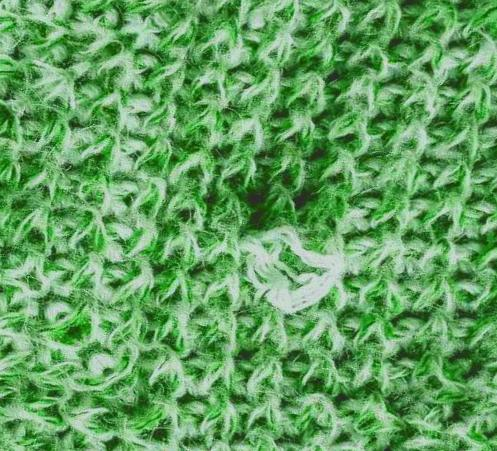snag: (237, 217, 368, 324)
